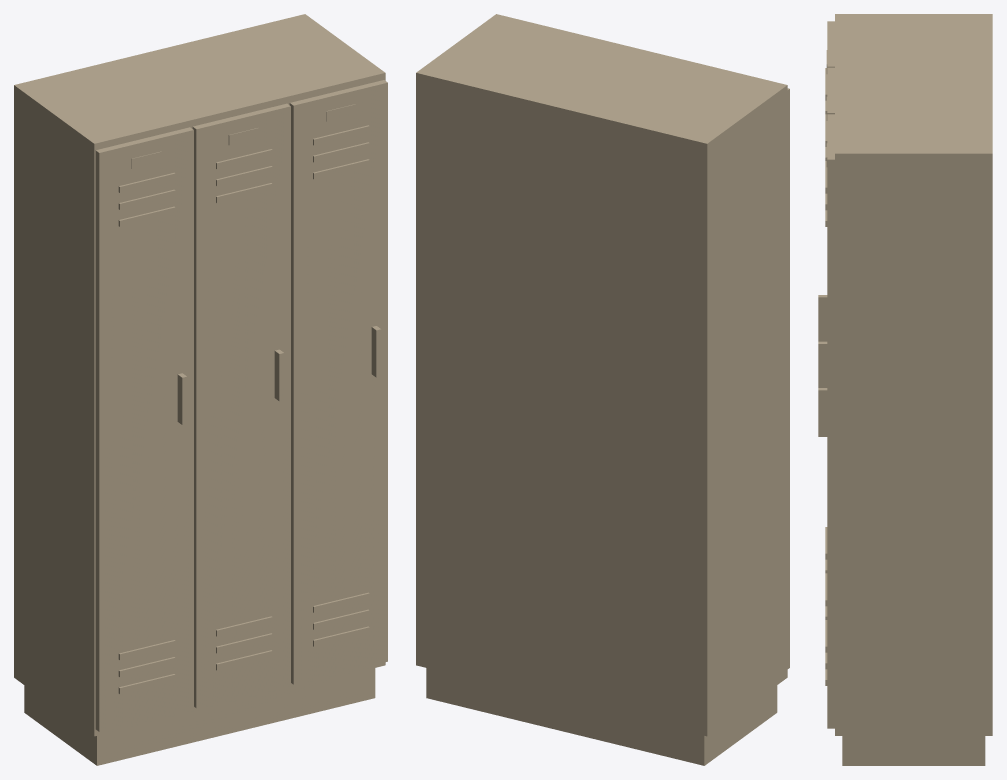
The model's file is lockers.glb.
3 views of the same model, side by side, from view 1: azimuth 30°, elevation 25°; view 2: azimuth 150°, elevation 25°; view 3: azimuth 270°, elevation 25° (orthographic).
Visible parts, largest first — view 1: lockers; view 2: lockers; view 3: lockers.
Boxes of the visible parts, bbox=[...] form: lockers: bbox=[14, 14, 387, 765]; lockers: bbox=[416, 14, 789, 765]; lockers: bbox=[818, 14, 992, 765].
Size of the model in its own units: 0.9 by 1.85 by 0.475.
